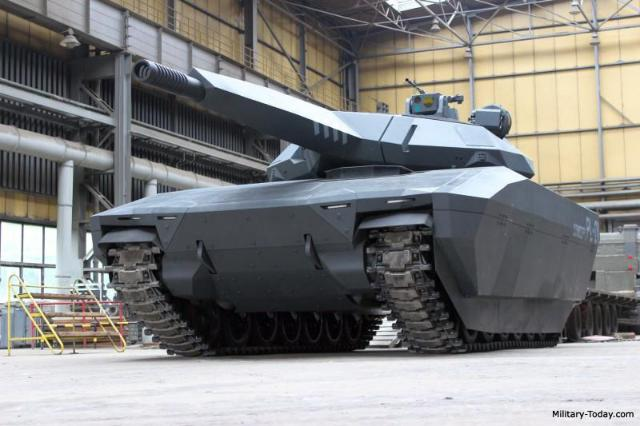tank: (90, 51, 598, 349)
